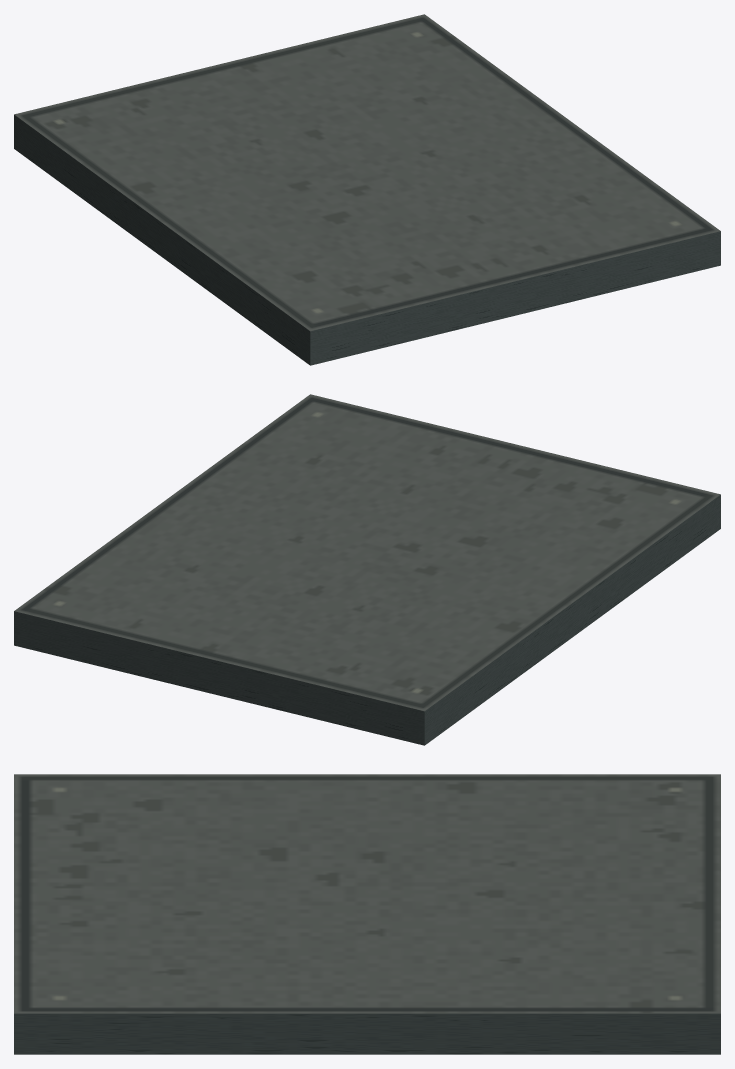
File: DeckTile4x5.fbx
The picture shows the model from 3 angles, top to bottom: view 1: azimuth 30°, elevation 25°; view 2: azimuth 150°, elevation 25°; view 3: azimuth 270°, elevation 25°; orthographic projection. The views are drawn at different scales.
Parts seen in each view (by area): view 1: DeckTile4x5; view 2: DeckTile4x5; view 3: DeckTile4x5.
Part boxes in pixels (box(x1,y1,x2,y2)): DeckTile4x5: box(14, 14, 720, 365); DeckTile4x5: box(14, 394, 720, 745); DeckTile4x5: box(14, 774, 720, 1054).
Size of the model in its own units: 400 by 32 by 500.
